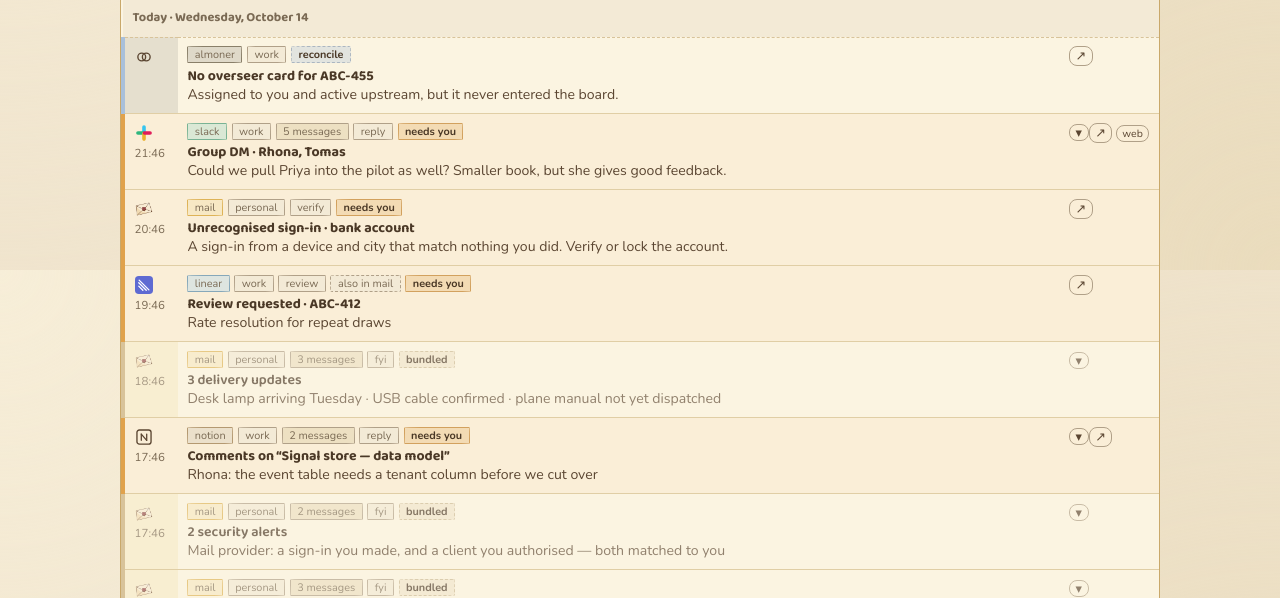
Test case: AlmonerPage › names the individual account or order inside an opened rollup
(page scrolled)
Click the button named "Show 3 messages in 3 delivery updates": [1079, 360] box [1069,352,1088,369]
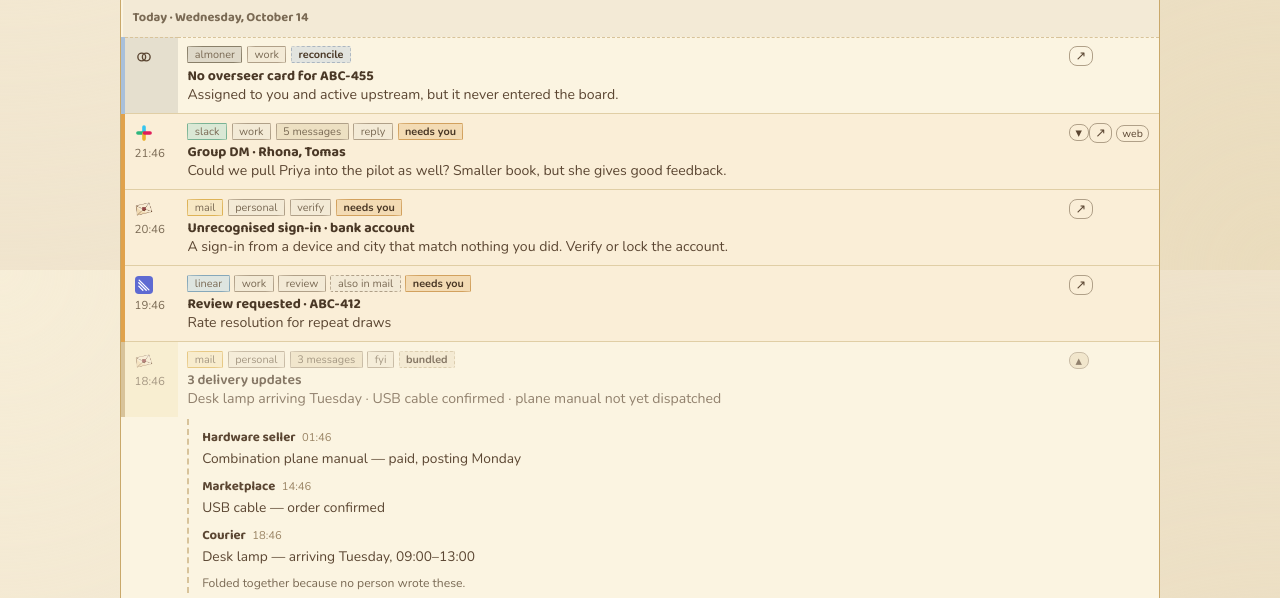
Result: the text "Combination plane manual — paid, posting Monday" is shown at [202,449,521,468]
